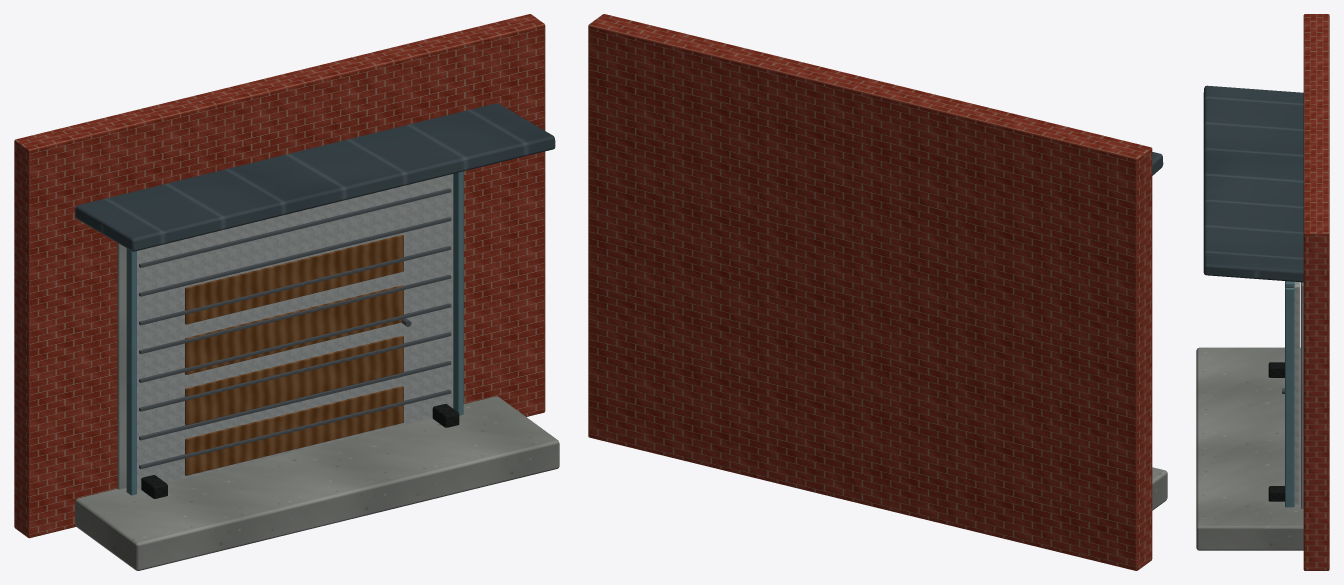
The model's file is facade-loading-bay.lod0.gltf.
3 renders of one model, left to right at view 1: azimuth 30°, elevation 25°; view 2: azimuth 150°, elevation 25°; view 3: azimuth 270°, elevation 25°, orthographic. The views are drawn at different scales.
Parts seen in each view (by area): view 1: facade-loading-bay; view 2: facade-loading-bay; view 3: facade-loading-bay.
Part boxes in pixels (<box>): facade-loading-bay: <box>14,14,559,570</box>; facade-loading-bay: <box>588,14,1167,570</box>; facade-loading-bay: <box>1196,14,1329,570</box>.
Size of the model in its own units: 6.4 by 4.67 by 1.64.
Materials: 8 (8 with a texture image).
